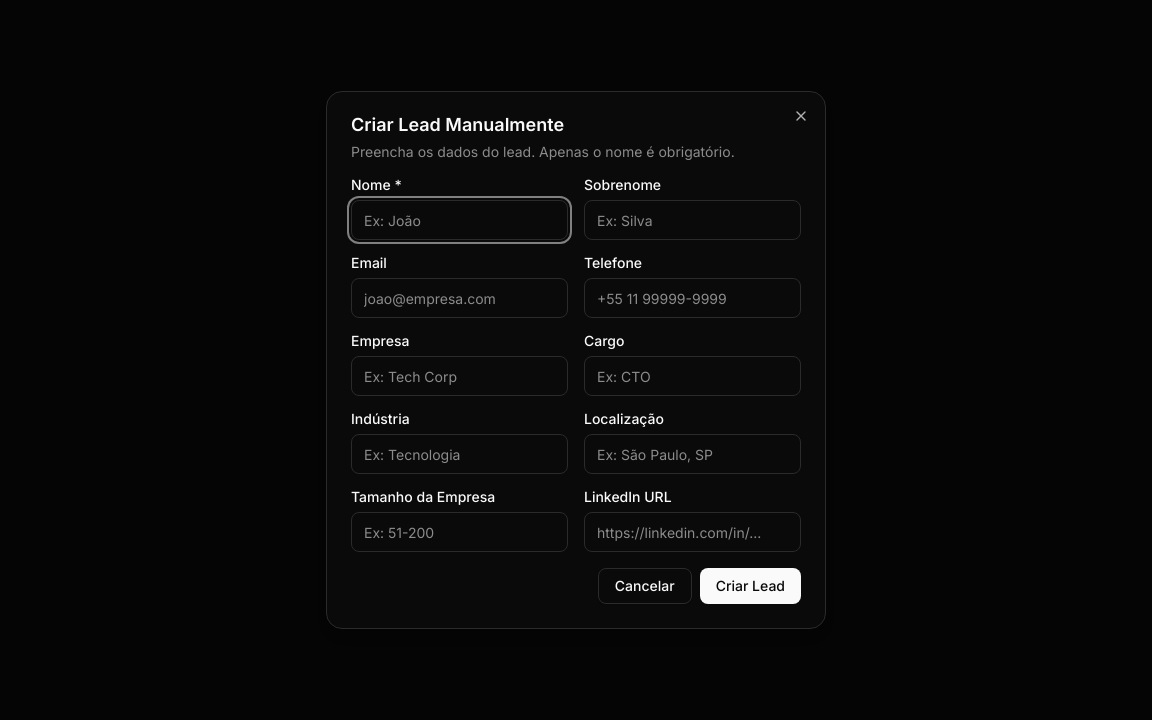
Test: CreateLeadDialog › should show loading state while submitting
The width and height of the screenshot is (1152, 720).
Type "João" into the field with test id "create-lead-firstName".
click(460, 220); type("João")  # box [351,200,568,240]
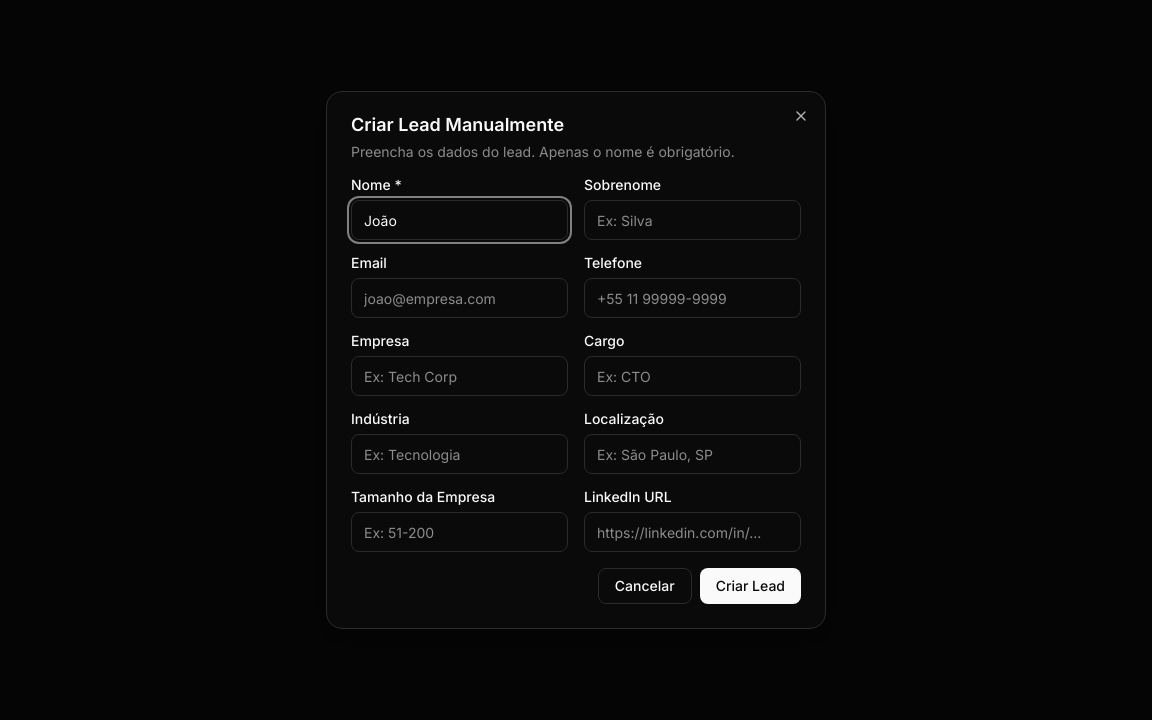
Click the button with test id "create-lead-submit".
click(750, 586)  # box [700,568,801,604]
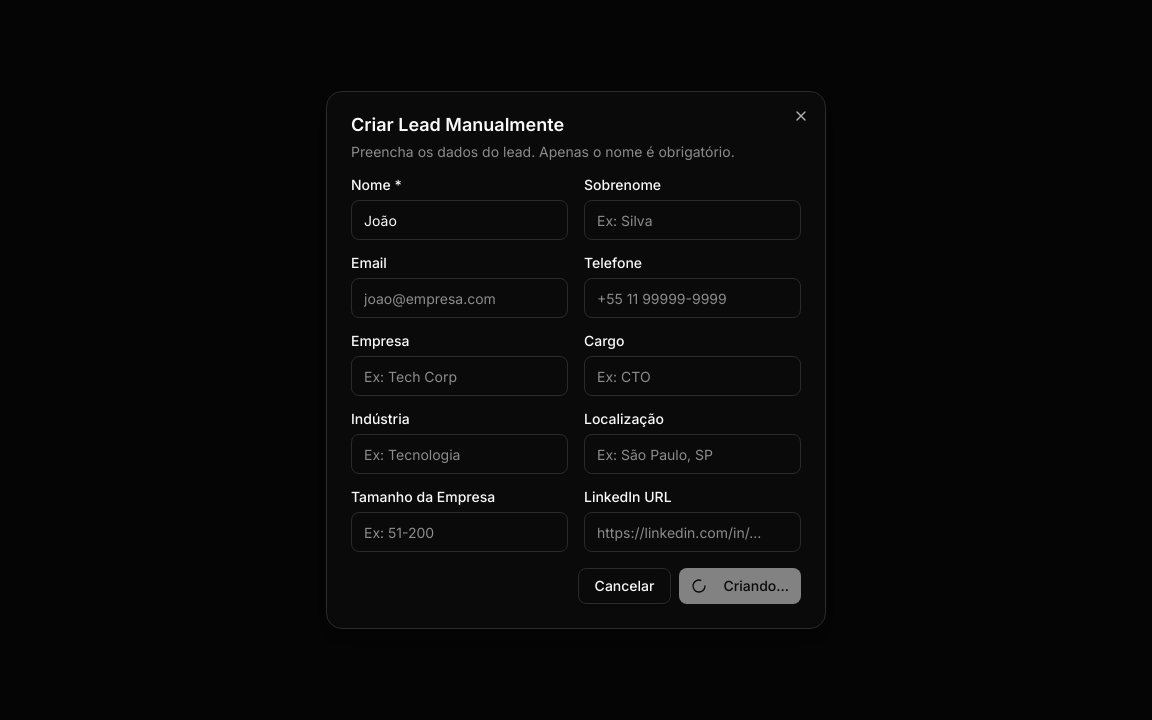
Check: the button "Criando..." is shown, box [680,568,801,604]
